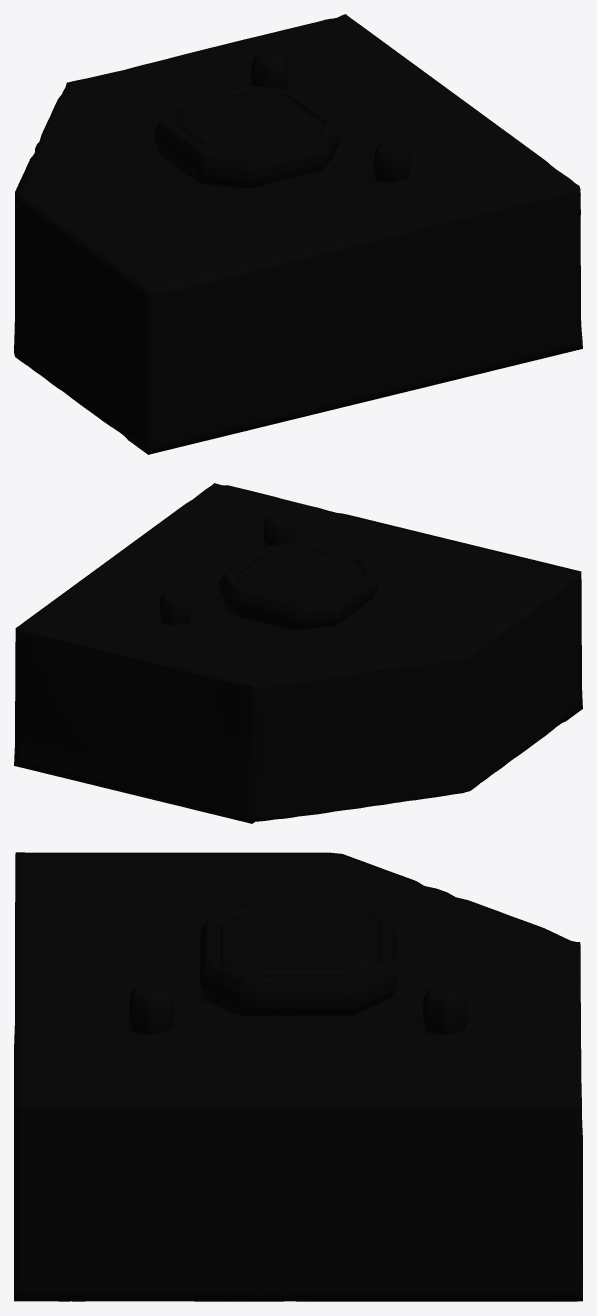
Rendered from battle-arena.glb.
3 renders of one model, top to bottom at view 1: azimuth 30°, elevation 25°; view 2: azimuth 150°, elevation 25°; view 3: azimuth 270°, elevation 25°, orthographic. The views are drawn at different scales.
Visible parts, largest first — view 1: model; view 2: model; view 3: model.
Part boxes in pixels (bbox=[...]): model: bbox=[14, 14, 582, 454]; model: bbox=[14, 483, 582, 823]; model: bbox=[14, 852, 582, 1301].
Size of the model in its own units: 1.9 by 0.8139 by 1.79.
Materials: 1 (1 with a texture image).
